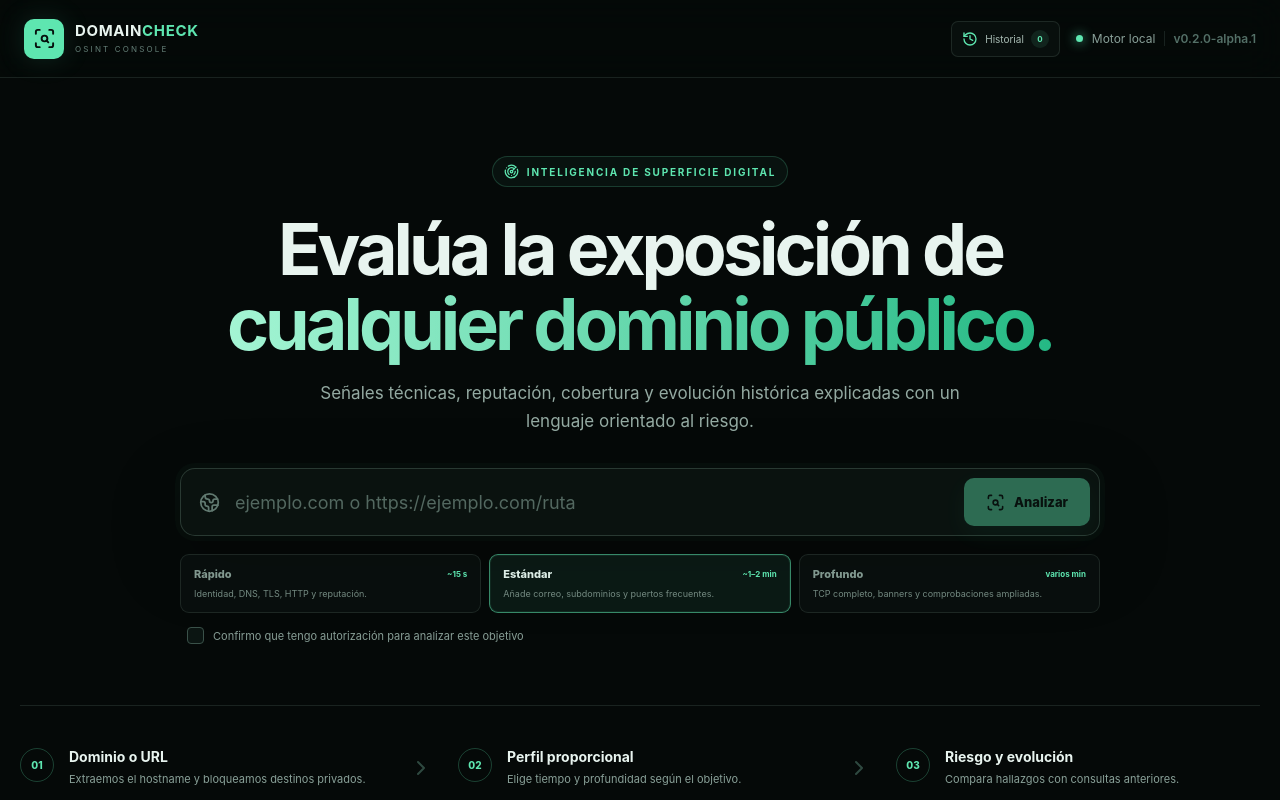
Test: App › requires a second confirmation for the deep profile
Type "example.com" into the field named "Dominio o URL" at (592, 502), box x1=233 y1=491 x2=951 y2=514
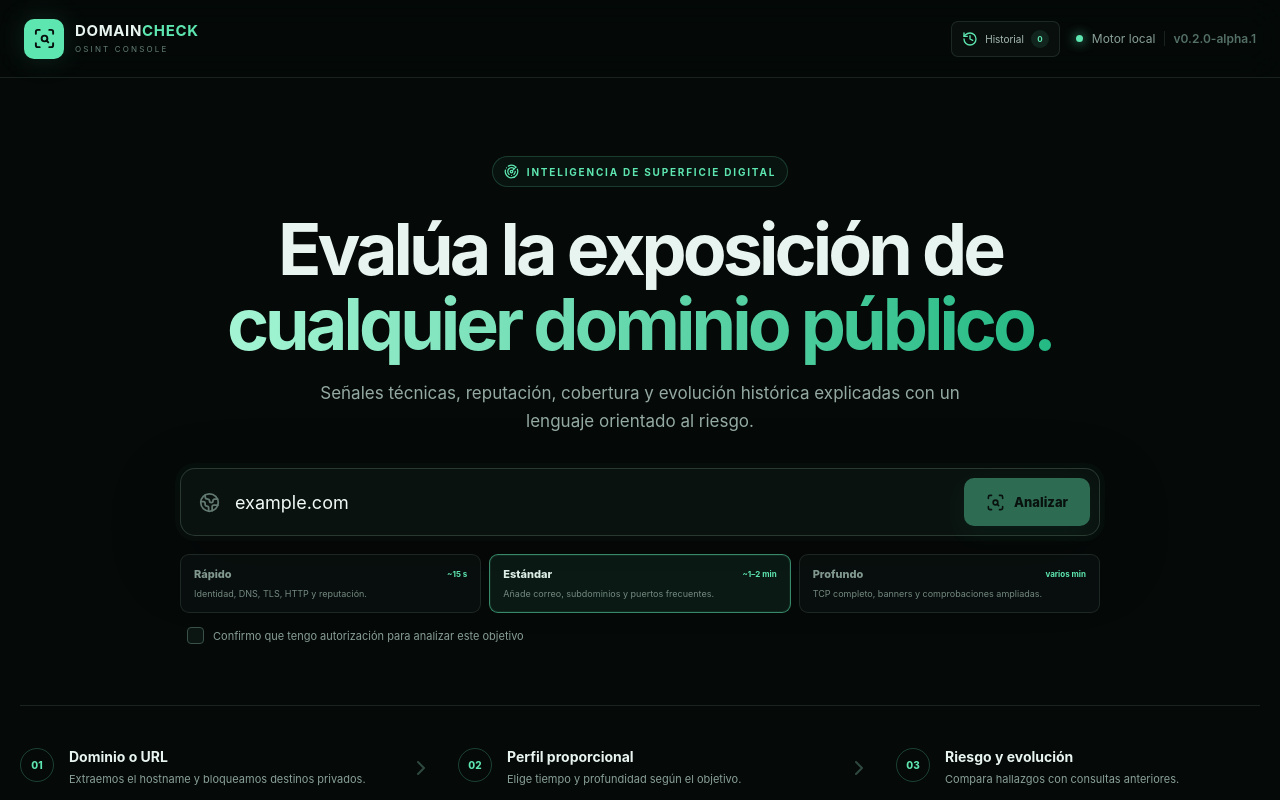
Click the text "Confirmo que tengo autorización para analizar este objetivo" at (368, 636), box x1=213 y1=629 x2=524 y2=643
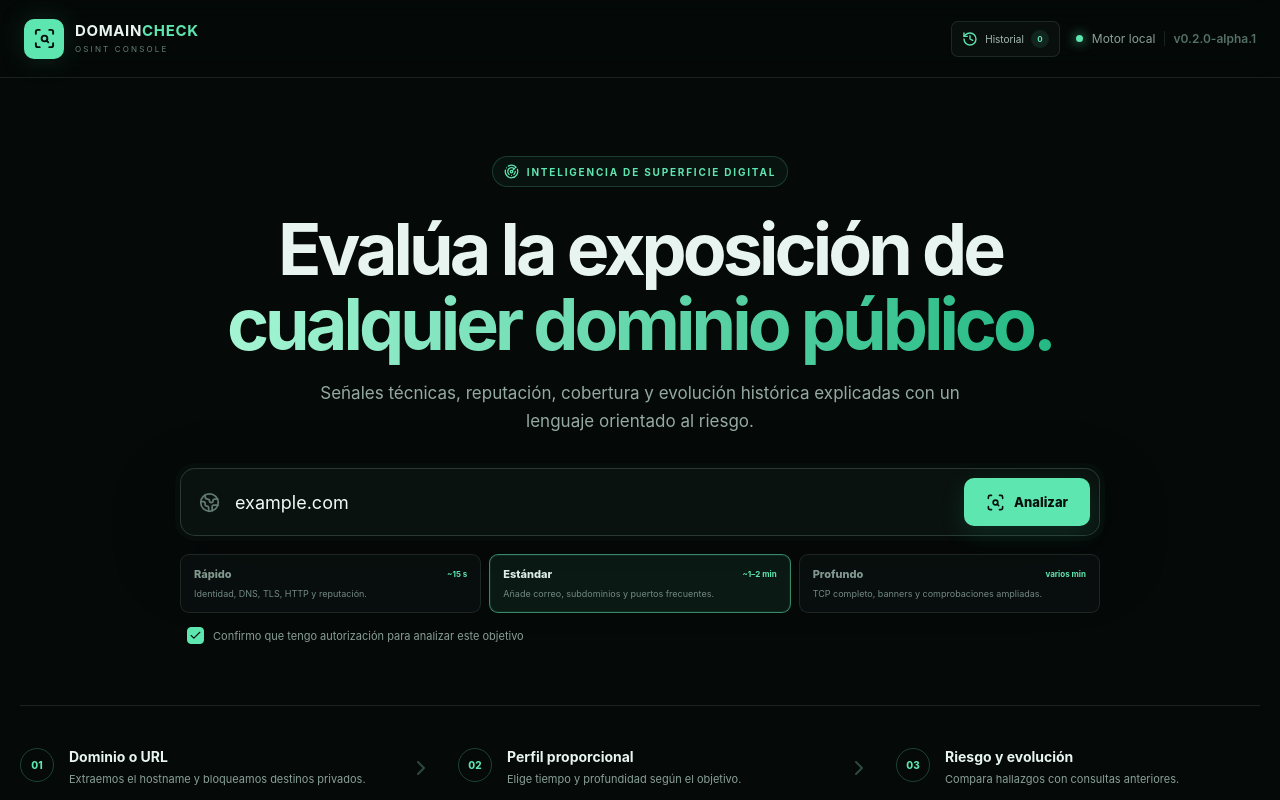
Click the button "Profundo varios min" at (838, 574), box x1=799 y1=554 x2=1100 y2=613
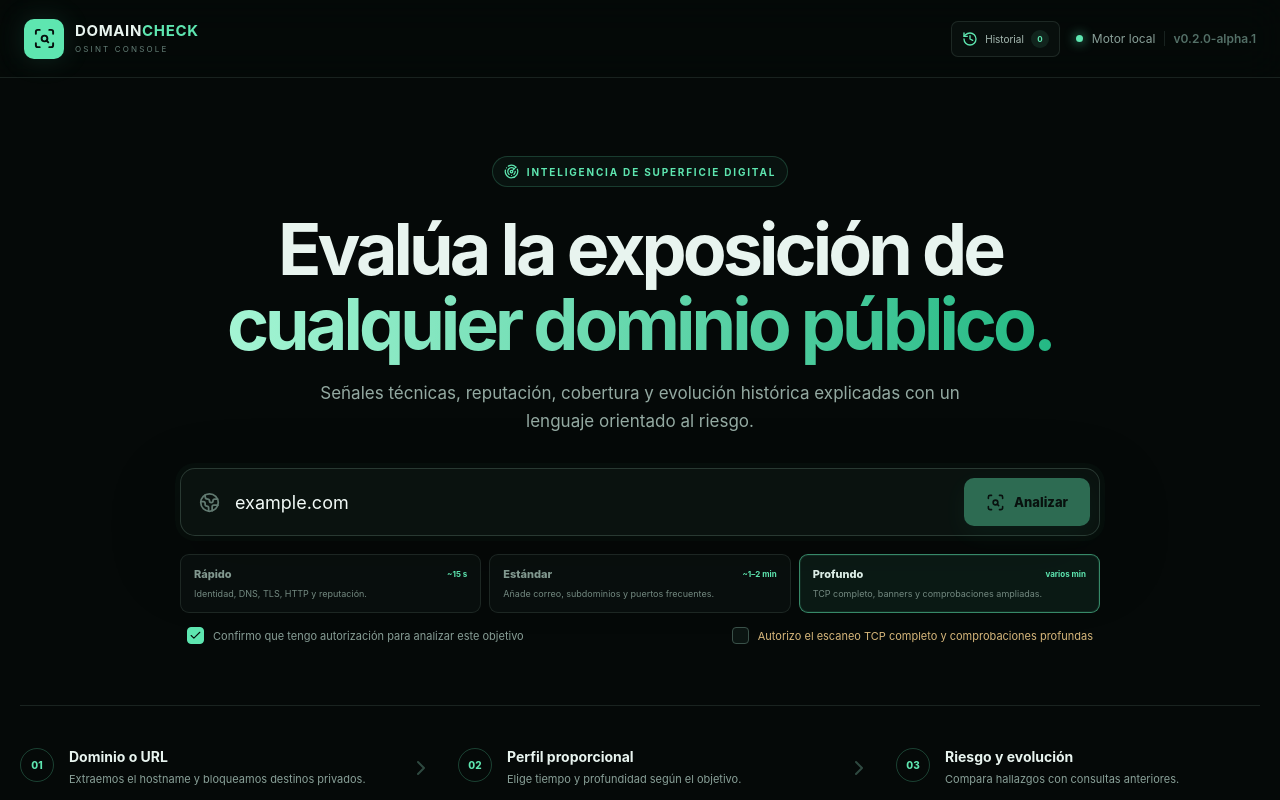
Check: the button "Analizar" is disabled, box x1=964 y1=478 x2=1090 y2=526
Click the text "Autorizo el escaneo TCP completo y comprobaciones profundas" at (925, 636), box x1=758 y1=629 x2=1093 y2=643
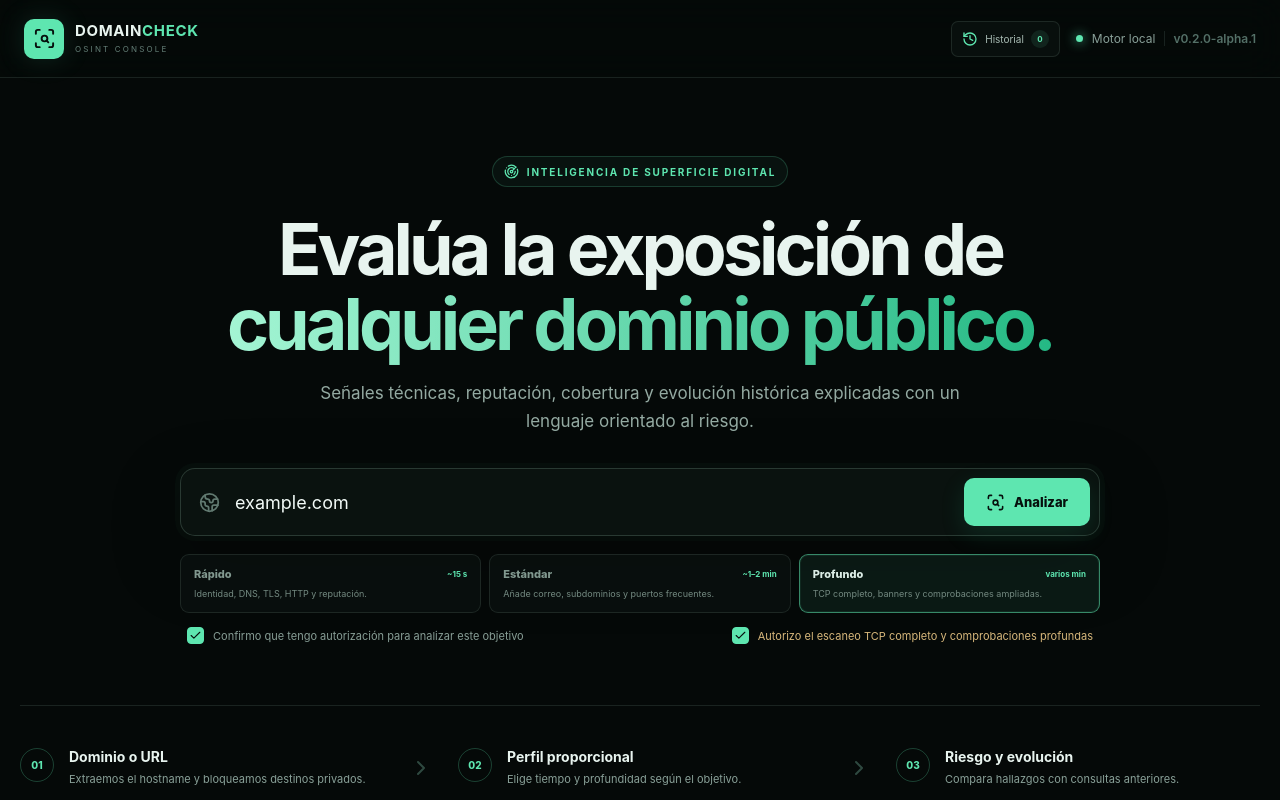
Check: the button "Analizar" is enabled, box x1=964 y1=478 x2=1090 y2=526
